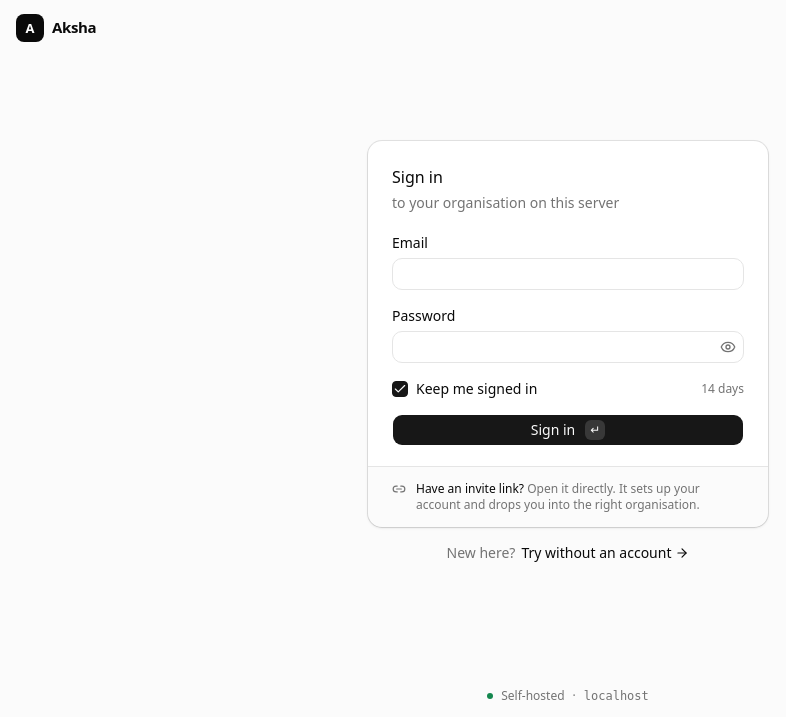
it: SignIn › checks the fields before sending anything
Click the button "Sign in ↵". click: click(568, 430)
box: [392, 414, 744, 446]
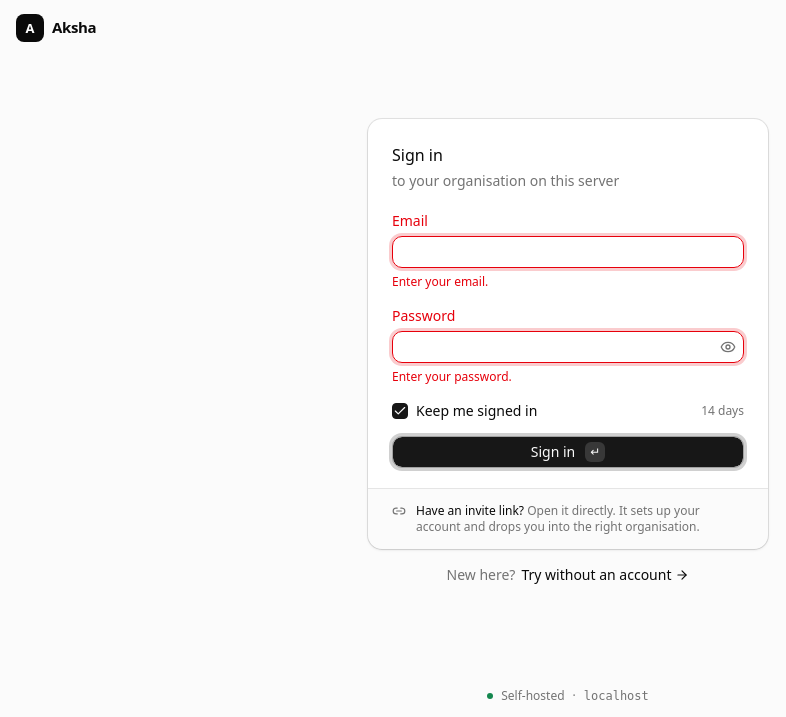
Now the text "Enter your email." is shown, box [392, 273, 488, 290]
Now the text "Enter your password." is shown, box [392, 368, 512, 385]
Type "not-an-email" into the field labelled "Email". click: (568, 252)
box: [392, 236, 744, 268]
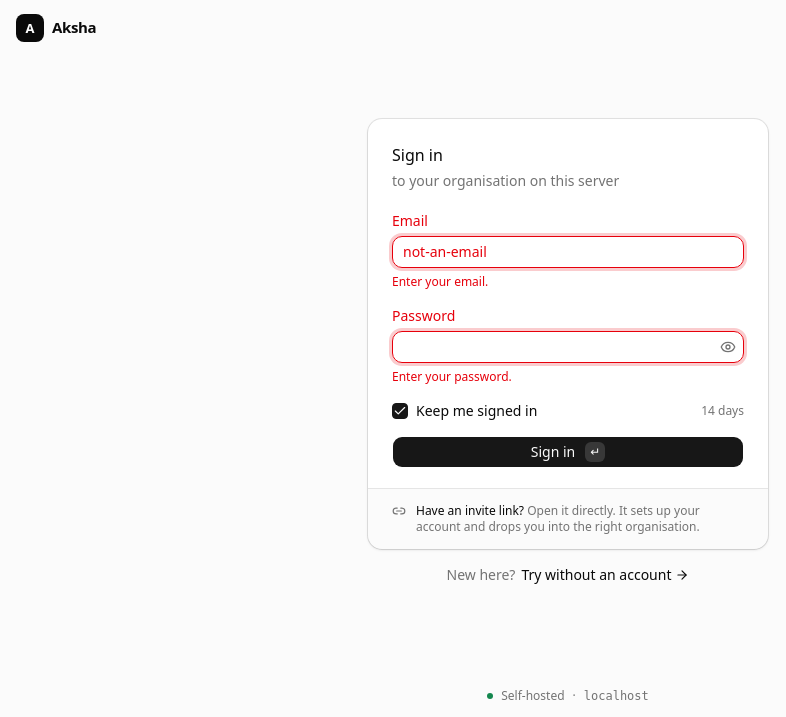
Click the button "Sign in ↵". click: click(568, 452)
box: [392, 436, 744, 468]
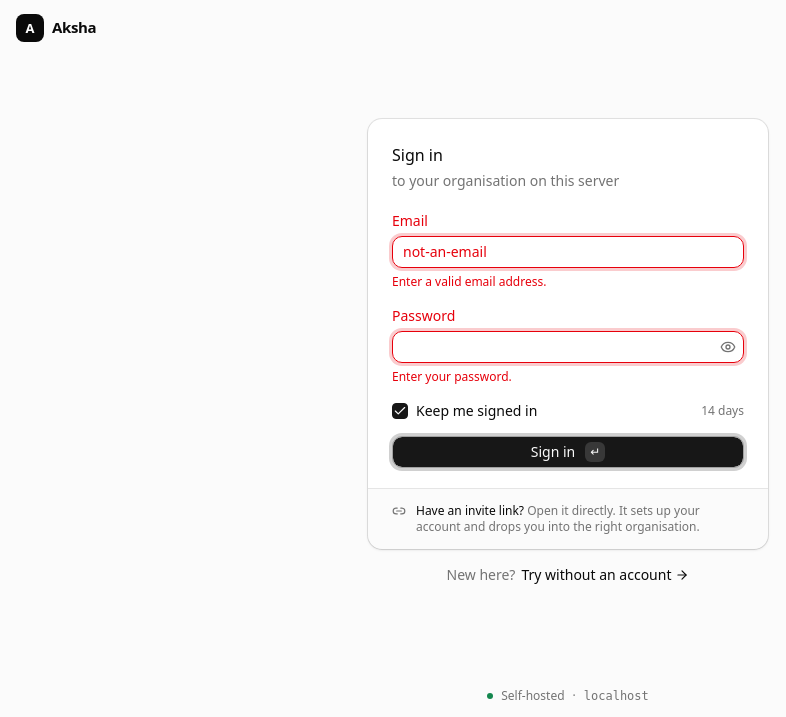
Now the text "Enter a valid email address." is shown, box [392, 273, 546, 290]
